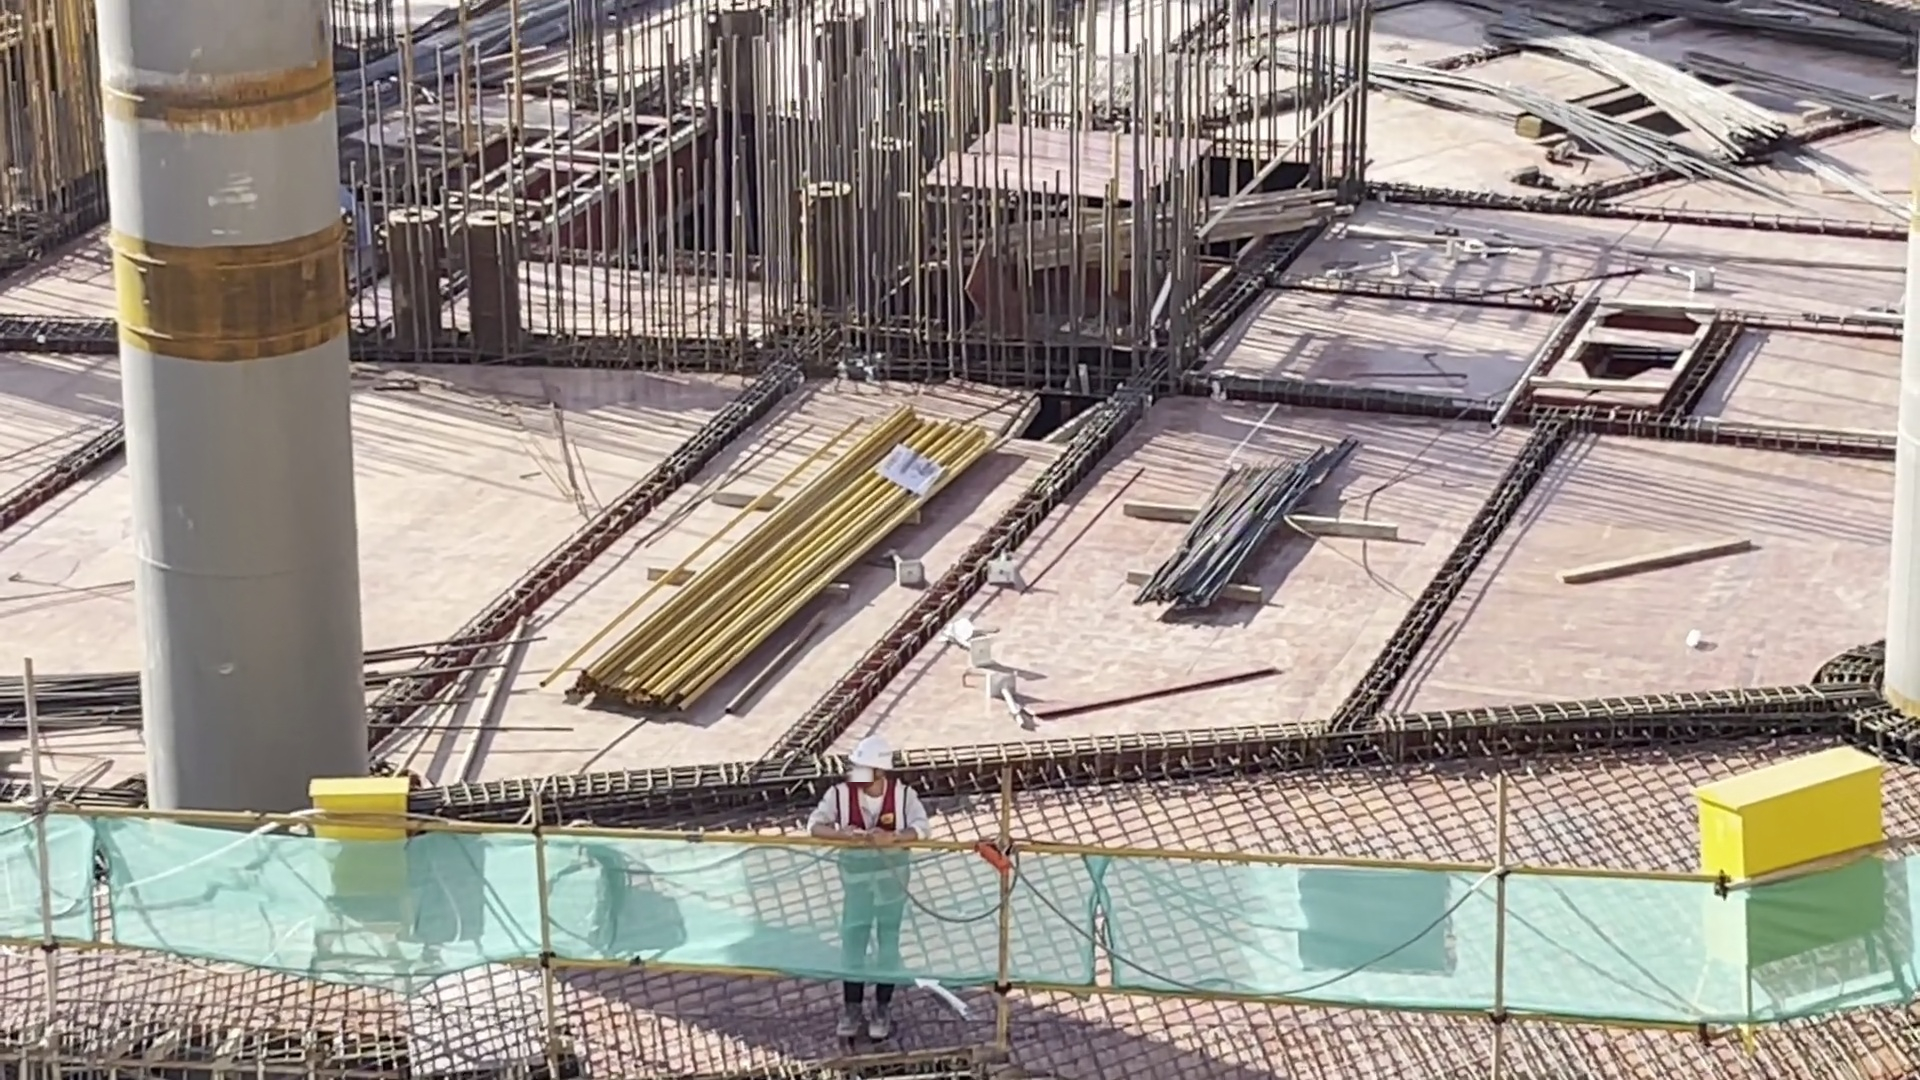ebox: (1691, 737, 1897, 967), (303, 763, 430, 945)
helmet: (831, 770, 913, 916), (845, 735, 900, 774)
person: (815, 732, 945, 1028)
